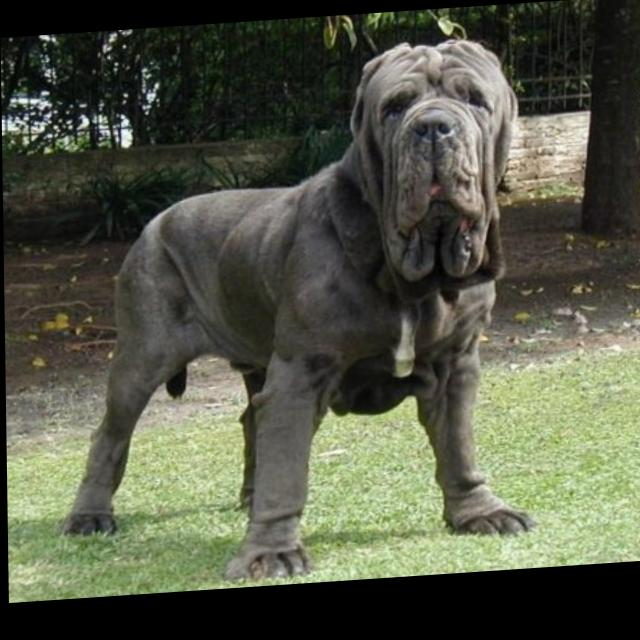mastino_napoletano: (54, 39, 536, 596)
